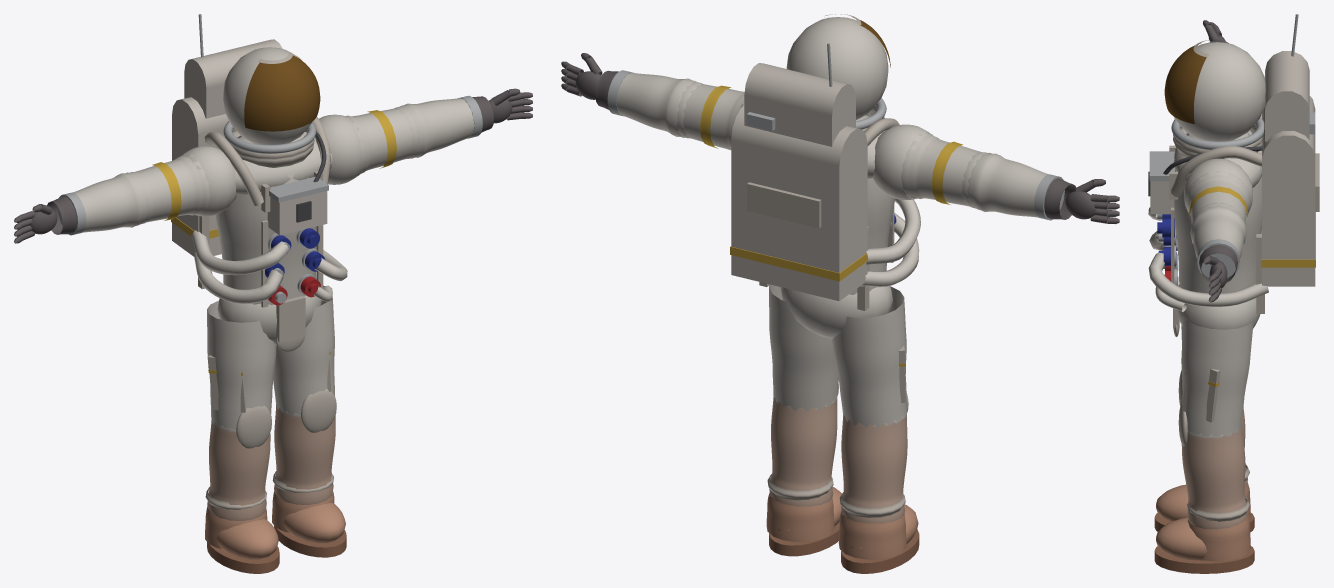
File: C01_colonist_tpose_yellow.glb
The picture shows the model from 3 angles, left to right: view 1: azimuth 30°, elevation 25°; view 2: azimuth 150°, elevation 25°; view 3: azimuth 270°, elevation 25°; orthographic projection. The views are drawn at different scales.
Visible parts, largest first — view 1: thigh (×2), shin (×2), forearm (×2), upper_arm (×2), visor, torso, shoulder (×2), boot (×2), oxygen_hose (×2), helmet_shell, knee_patch (×2), boot_sole (×2) (+14 smaller); view 2: pack_main, thigh (×2), shin (×2), forearm (×2), helmet_shell, upper_arm (×2), boot_shaft (×2), pack_upper_roll, pelvis, pack_top_roll, pack_upper_unit, oxygen_hose (×2) (+7 smaller); view 3: pack_main, thigh, helmet_shell, shin, torso, pack_upper_roll, boot (×2), visor, forearm, water_hose, pack_top_roll, upper_arm (+24 smaller).
Part boxes in pixels (x1,y1,x2,y2): thigh (×2): [207, 285, 334, 429]; shin (×2): [207, 404, 335, 520]; forearm (×2): [73, 98, 474, 232]; upper_arm (×2): [135, 108, 415, 222]; visor: [244, 55, 320, 131]; torso: [215, 134, 316, 305]; shoulder (×2): [182, 114, 361, 216]; boot (×2): [216, 503, 345, 559]; oxygen_hose (×2): [191, 230, 288, 304]; helmet_shell: [223, 47, 311, 144]; knee_patch (×2): [236, 389, 336, 448]; boot_sole (×2): [207, 525, 346, 573]; pack_main: [731, 140, 867, 301]; thigh (×2): [769, 284, 906, 427]; shin (×2): [769, 397, 907, 523]; forearm (×2): [616, 72, 1048, 217]; helmet_shell: [786, 17, 888, 119]; upper_arm (×2): [680, 83, 981, 206]; boot_shaft (×2): [766, 492, 906, 559]; pack_upper_roll: [744, 63, 855, 127]; pelvis: [780, 286, 892, 338]; pack_top_roll: [731, 106, 867, 176]; pack_upper_unit: [744, 94, 855, 146]; oxygen_hose (×2): [860, 198, 920, 287]; pack_main: [1262, 159, 1315, 286]; thigh: [1181, 317, 1253, 436]; helmet_shell: [1173, 42, 1265, 141]; shin: [1181, 424, 1247, 529]; torso: [1174, 132, 1261, 293]; pack_upper_roll: [1265, 51, 1309, 130]; boot (×2): [1156, 484, 1249, 560]; visor: [1164, 43, 1206, 123]; forearm: [1190, 205, 1246, 258]; water_hose: [1148, 252, 1268, 306]; pack_top_roll: [1262, 96, 1315, 182]; upper_arm: [1185, 171, 1251, 224].
Bounding box in the file's own units: 2.17 × 2.02 × 0.6101.
